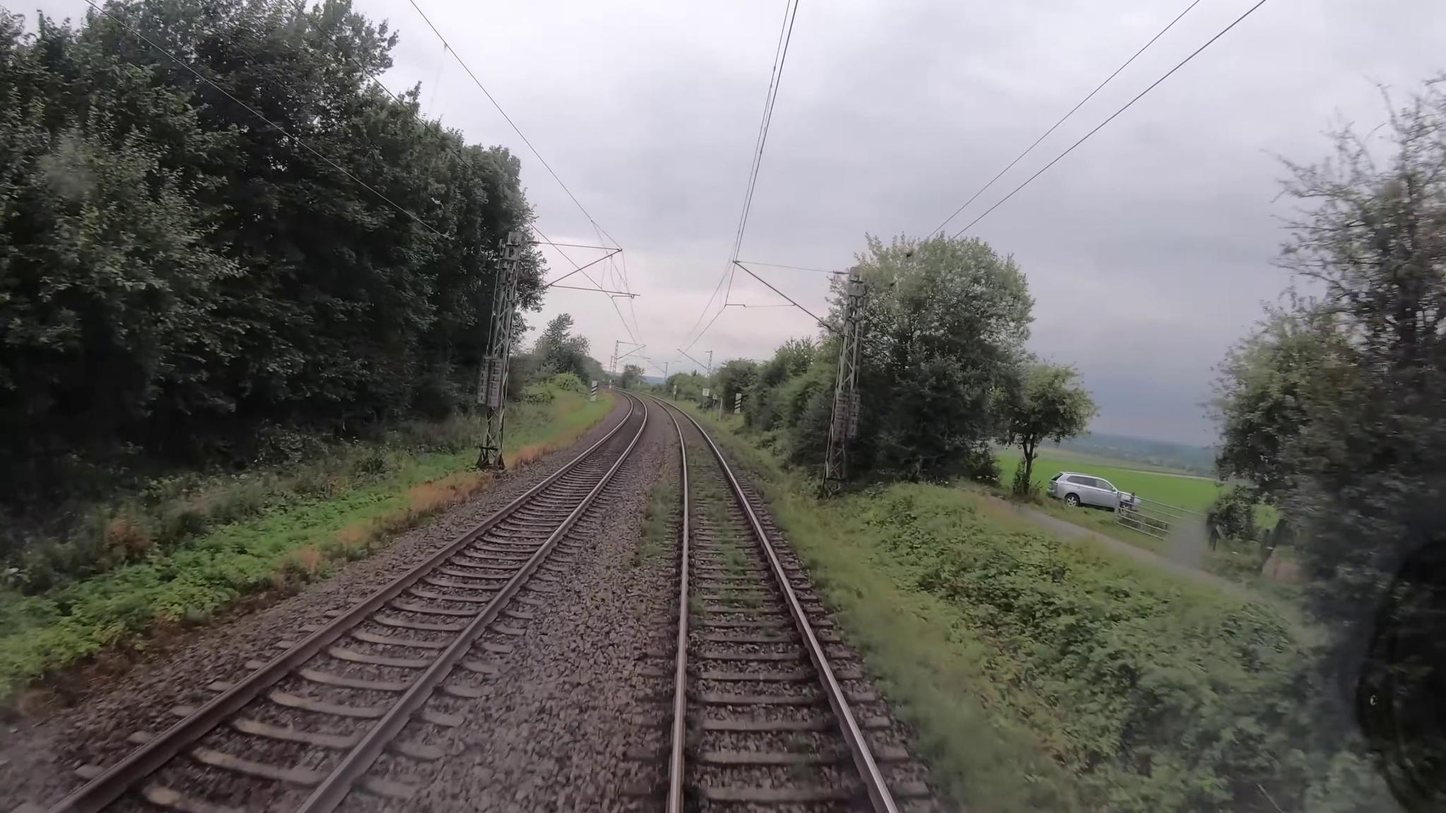Plant: (706, 424, 1079, 813), (690, 435, 796, 638), (627, 473, 675, 572)
